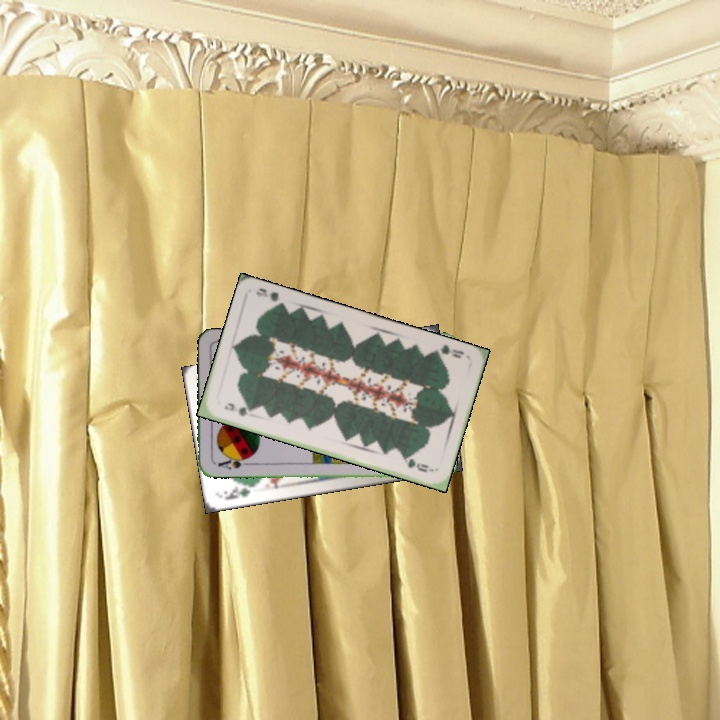G9: (429, 340, 467, 361), (220, 399, 255, 419)
GK: (219, 481, 257, 503)
SA: (214, 453, 252, 472)
